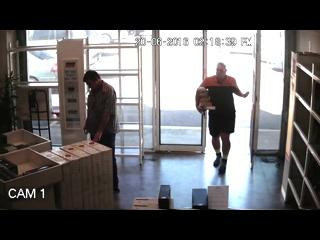Normal: (194, 61, 250, 174), (82, 70, 120, 193)
